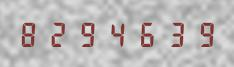eight: (17, 20, 44, 47)
four: (101, 20, 128, 47)
nine: (73, 20, 100, 47), (185, 20, 212, 47)
six: (129, 20, 156, 47)
three: (157, 20, 184, 47)
two: (45, 20, 72, 47)
